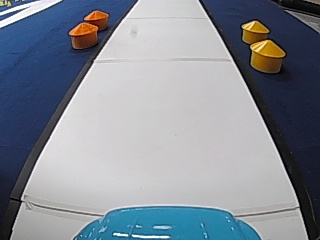granary: (247, 38, 286, 72), (67, 20, 98, 49), (238, 18, 269, 44), (83, 8, 108, 30)
